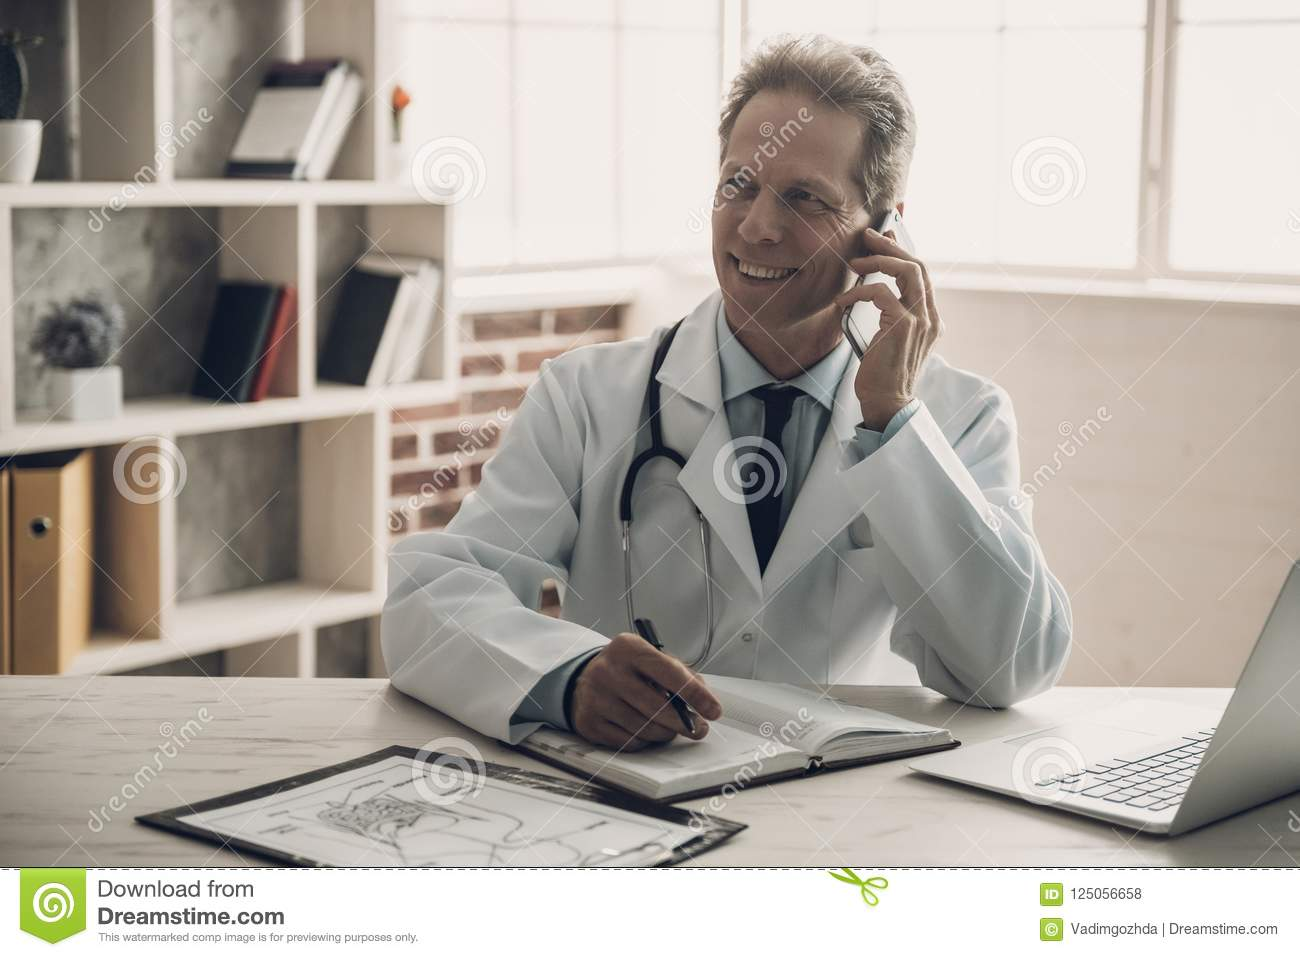phone: (842, 205, 919, 374)
talk: (711, 159, 944, 425)
